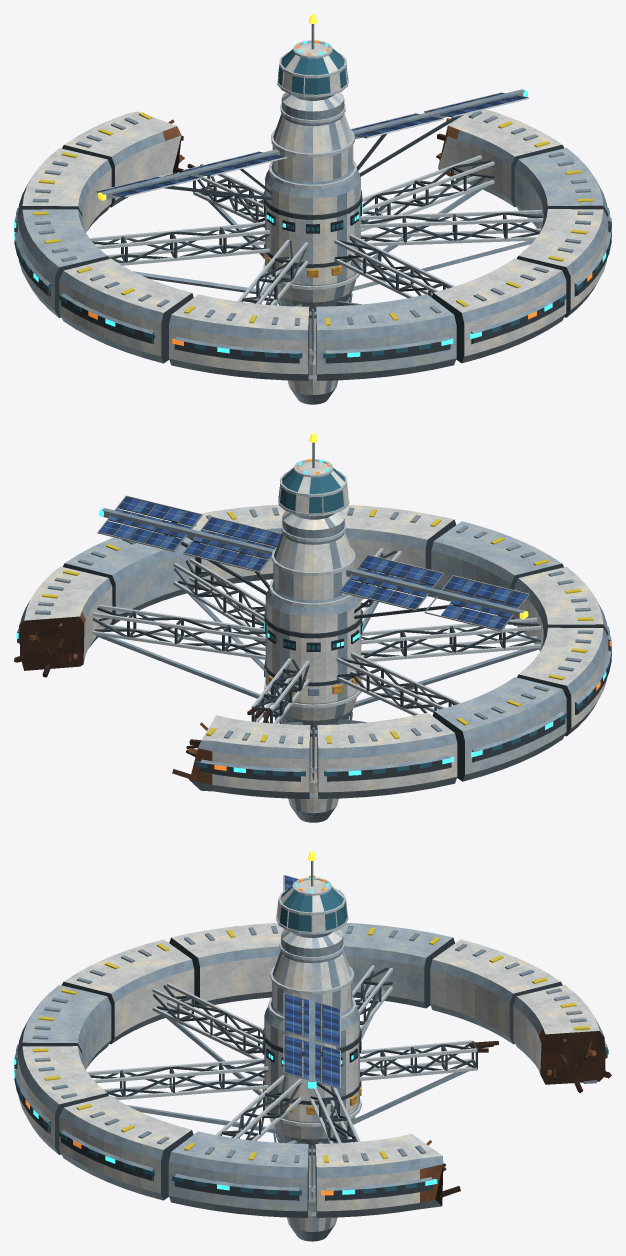
The model's file is abandoned_research_station.glb.
3 renders of one model, top to bottom at view 1: azimuth 30°, elevation 25°; view 2: azimuth 150°, elevation 25°; view 3: azimuth 270°, elevation 25°, orthographic.
Visible parts, largest first — view 1: Gravity ring | segmented hab decks and burned bulkheads, Radial spoke trusses and radiator spars, Pressurized spindle | service and habitation modules, Dorsal cupola | faceted observatory glazing; view 2: Gravity ring | segmented hab decks and burned bulkheads, Radial spoke trusses and radiator spars, Pressurized spindle | service and habitation modules, Dorsal cupola | faceted observatory glazing; view 3: Gravity ring | segmented hab decks and burned bulkheads, Radial spoke trusses and radiator spars, Pressurized spindle | service and habitation modules, Dorsal cupola | faceted observatory glazing.
Part boxes in pixels (x1,y1,x2,y2): Gravity ring | segmented hab decks and burned bulkheads: [14, 109, 611, 380]; Radial spoke trusses and radiator spars: [89, 89, 543, 306]; Pressurized spindle | service and habitation modules: [263, 92, 362, 404]; Dorsal cupola | faceted observatory glazing: [277, 14, 348, 100]; Gravity ring | segmented hab decks and burned bulkheads: [14, 504, 611, 798]; Radial spoke trusses and radiator spars: [92, 495, 540, 724]; Pressurized spindle | service and habitation modules: [264, 511, 362, 822]; Dorsal cupola | faceted observatory glazing: [278, 433, 349, 519]; Gravity ring | segmented hab decks and burned bulkheads: [14, 923, 611, 1217]; Radial spoke trusses and radiator spars: [87, 875, 498, 1143]; Pressurized spindle | service and habitation modules: [262, 929, 361, 1241]; Dorsal cupola | faceted observatory glazing: [276, 851, 348, 937].
Bounding box in the file's own units: 85 × 60 × 85.
Materials: 18 (6 with a texture image).
